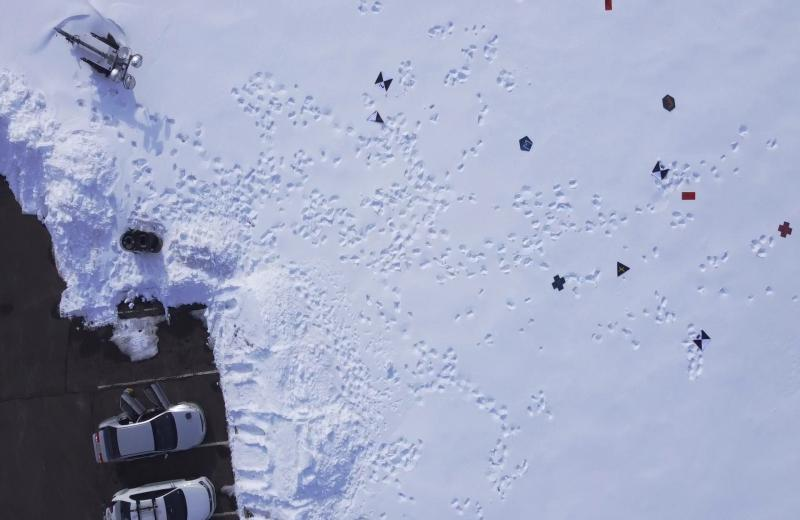Cross: (776, 222, 792, 240), (550, 274, 566, 292)
Hexagon: (661, 95, 677, 114)
Pentagon: (516, 134, 534, 154)
Rectangle: (680, 190, 697, 204), (602, 0, 614, 12)
Triangle: (615, 259, 631, 279)
